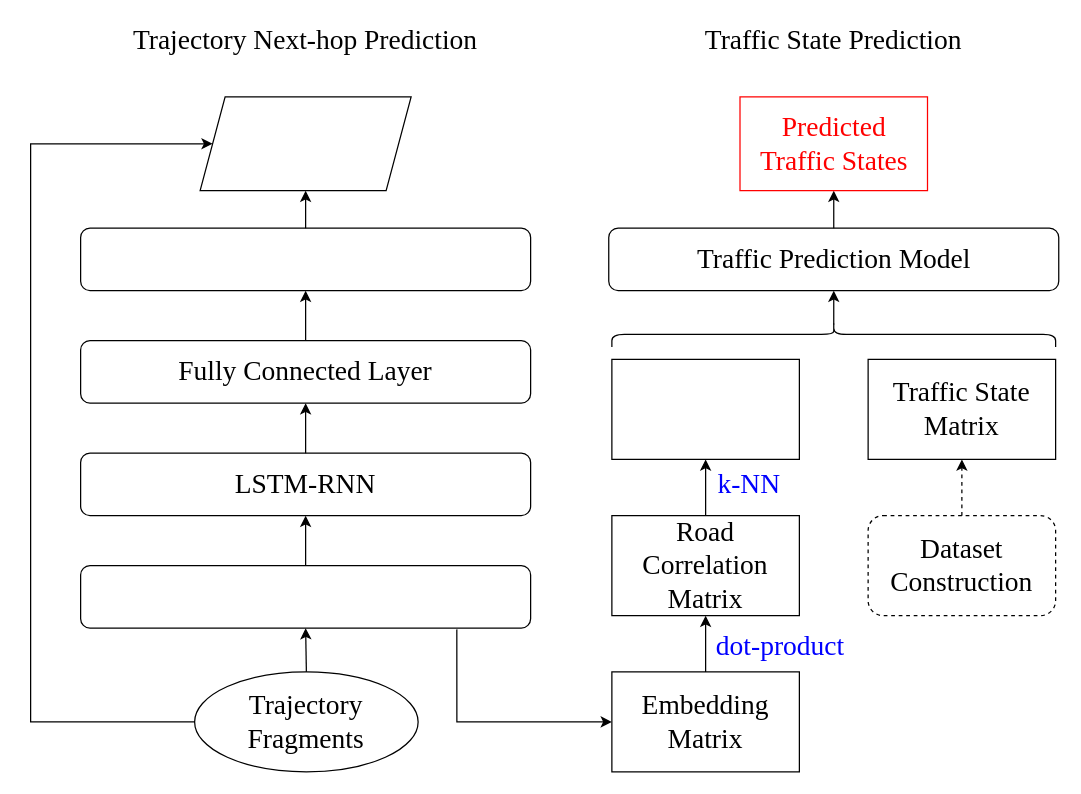
Some shapes in this 1081 by 794 pixel diagram are drawn without their labels. Each missing label, with the centre of its shape:
Cross Entropy Loss: point (305, 143)
Embedding Layer: point (305, 596)
Refined Adjacency Matrix: point (705, 408)
Softmax: point (305, 259)
